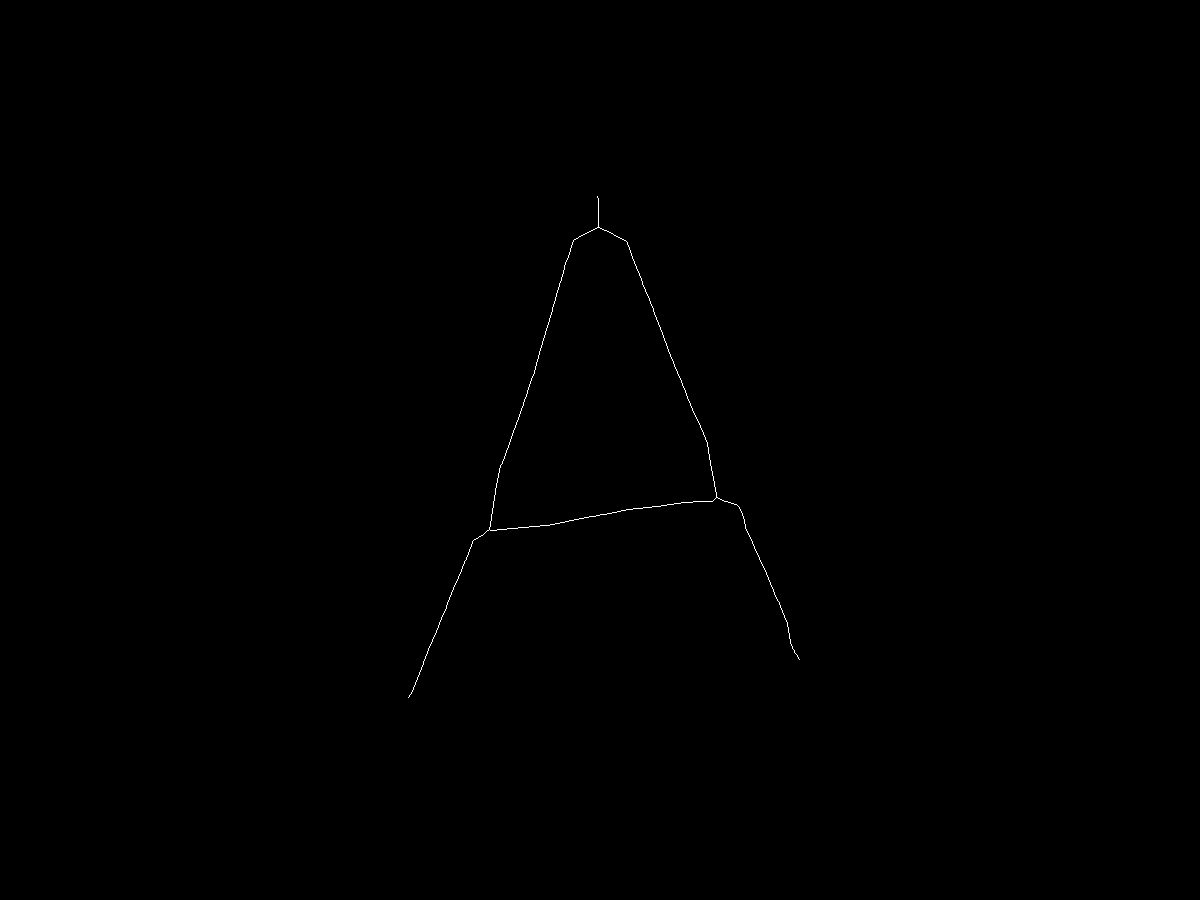dian1: (593, 221, 610, 238)
dian2: (482, 518, 497, 533)
dian3: (402, 688, 417, 703)
dian4: (732, 497, 745, 510)
dian5: (790, 650, 806, 666)
